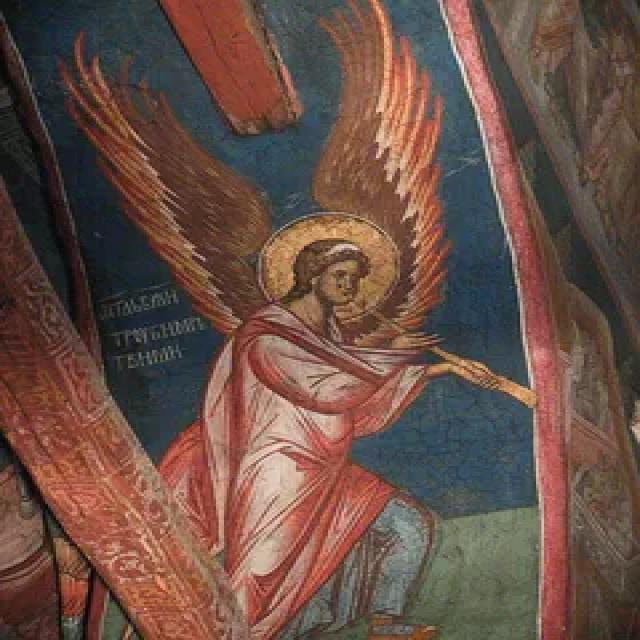angel: (44, 0, 548, 640)
